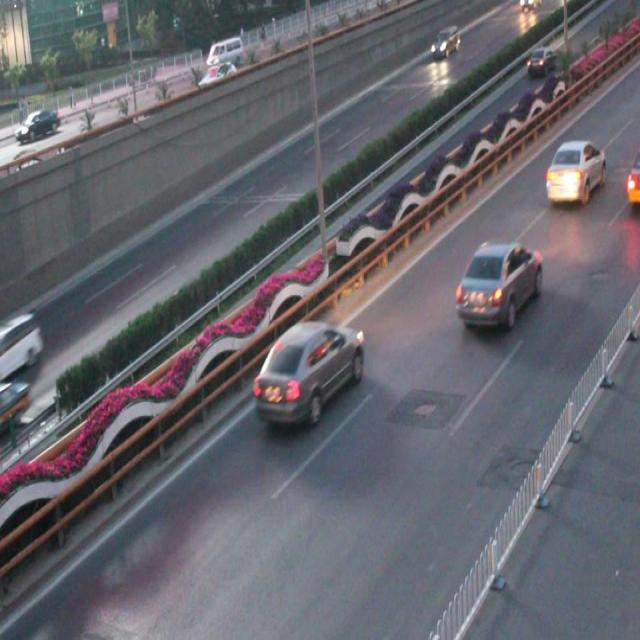car: (252, 320, 364, 423), (455, 239, 541, 326), (543, 142, 606, 205)
truck: (1, 312, 46, 373)
